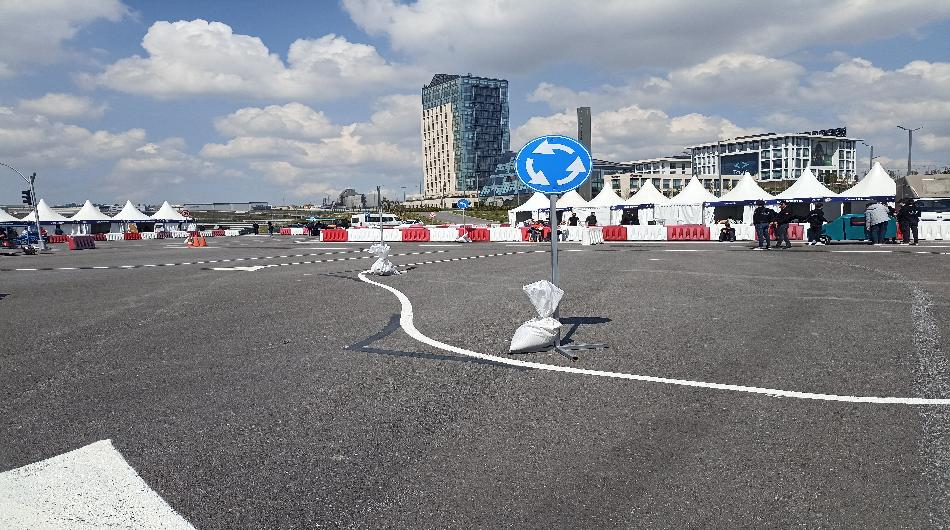ada: (517, 135, 592, 194)
